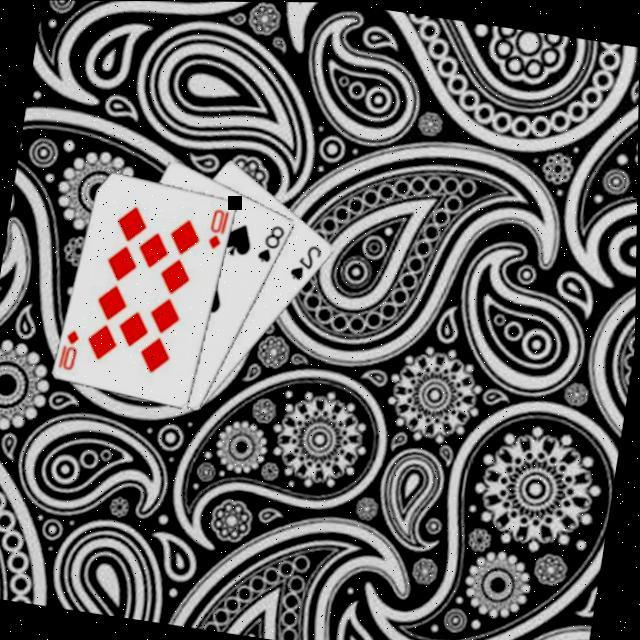10D: (206, 202, 235, 252), (57, 322, 86, 372)
2S: (287, 237, 328, 283)
8S: (256, 218, 290, 265)
